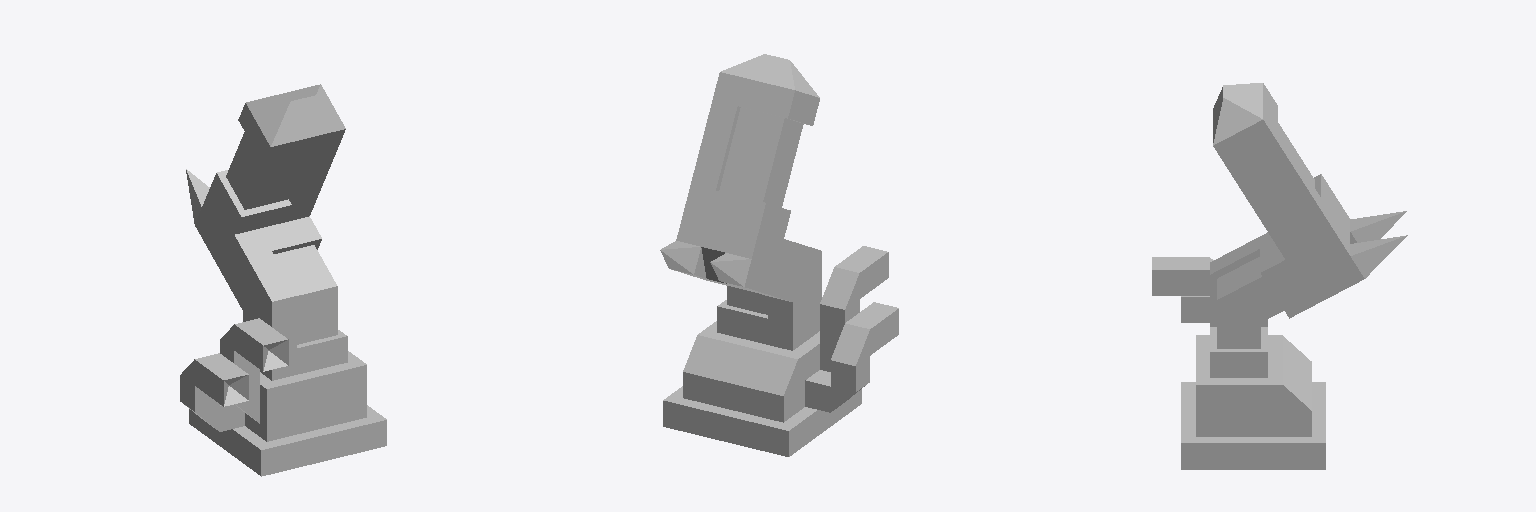
The model's file is leg_rocket_l.obj.
3 renders of one model, left to right at view 1: azimuth 30°, elevation 25°; view 2: azimuth 150°, elevation 25°; view 3: azimuth 270°, elevation 25°, orthographic.
Visible parts, largest first — view 1: LEG_LEFT_ROCKET.OBSVAR_Cube.385, LEG_LEFT_DECO_OBSIDIAN_Cube.376; view 2: LEG_LEFT_ROCKET.OBSVAR_Cube.385, LEG_LEFT_DECO_OBSIDIAN_Cube.376; view 3: LEG_LEFT_ROCKET.OBSVAR_Cube.385, LEG_LEFT_DECO_OBSIDIAN_Cube.376.
Part boxes in pixels (x1,y1,x2,y2): LEG_LEFT_ROCKET.OBSVAR_Cube.385: (180,84,386,476); LEG_LEFT_DECO_OBSIDIAN_Cube.376: (186,169,209,245); LEG_LEFT_ROCKET.OBSVAR_Cube.385: (663,54,898,456); LEG_LEFT_DECO_OBSIDIAN_Cube.376: (660,241,756,290); LEG_LEFT_ROCKET.OBSVAR_Cube.385: (1152,83,1349,469); LEG_LEFT_DECO_OBSIDIAN_Cube.376: (1340,211,1407,291).
Size of the model in its own units: 0.4062 by 0.8246 by 0.5508.